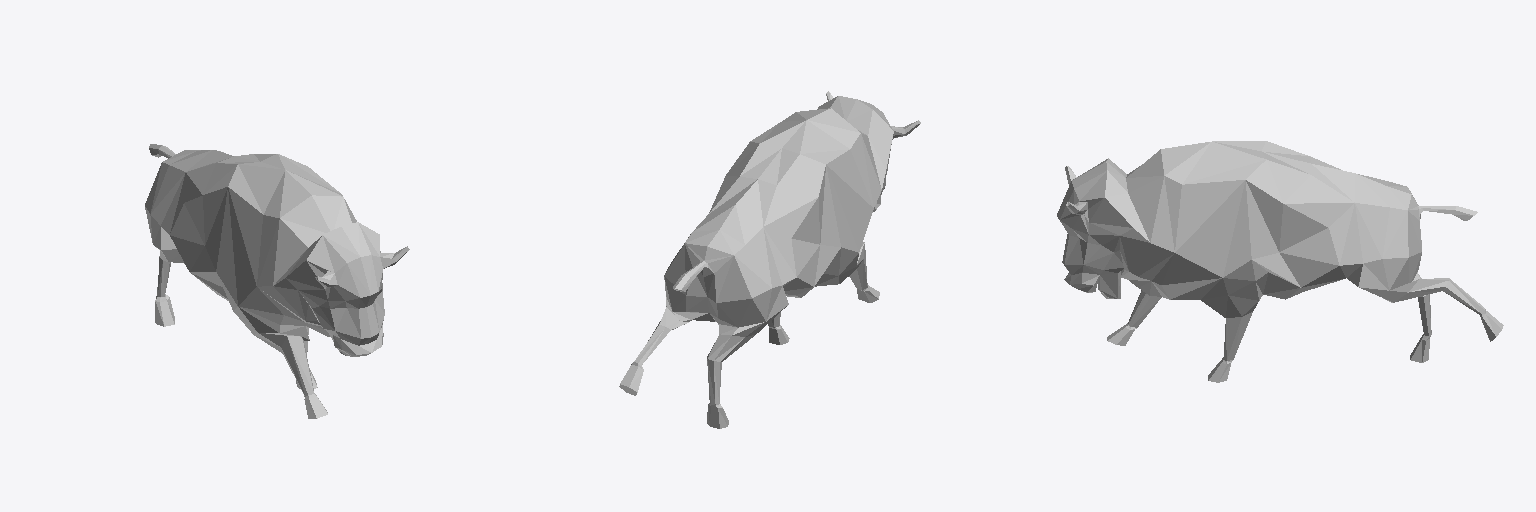
The model's file is bison_010.obj.
3 views of the same model, side by side, from view 1: azimuth 30°, elevation 25°; view 2: azimuth 150°, elevation 25°; view 3: azimuth 270°, elevation 25° (orthographic).
Visible parts, largest first — view 1: comp_bison_rig:bison_body comp_bison_rig:bison; view 2: comp_bison_rig:bison_body comp_bison_rig:bison; view 3: comp_bison_rig:bison_body comp_bison_rig:bison.
Part boxes in pixels (bbox=[...]): comp_bison_rig:bison_body comp_bison_rig:bison: bbox=[145, 144, 409, 418]; comp_bison_rig:bison_body comp_bison_rig:bison: bbox=[619, 91, 920, 428]; comp_bison_rig:bison_body comp_bison_rig:bison: bbox=[1057, 141, 1503, 382].
Size of the model in its own units: 105 by 194 by 350.